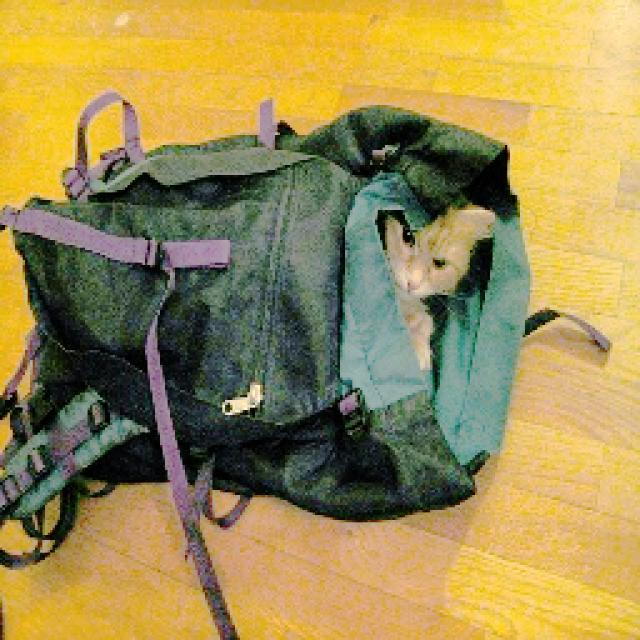cat: (372, 188, 498, 390)
